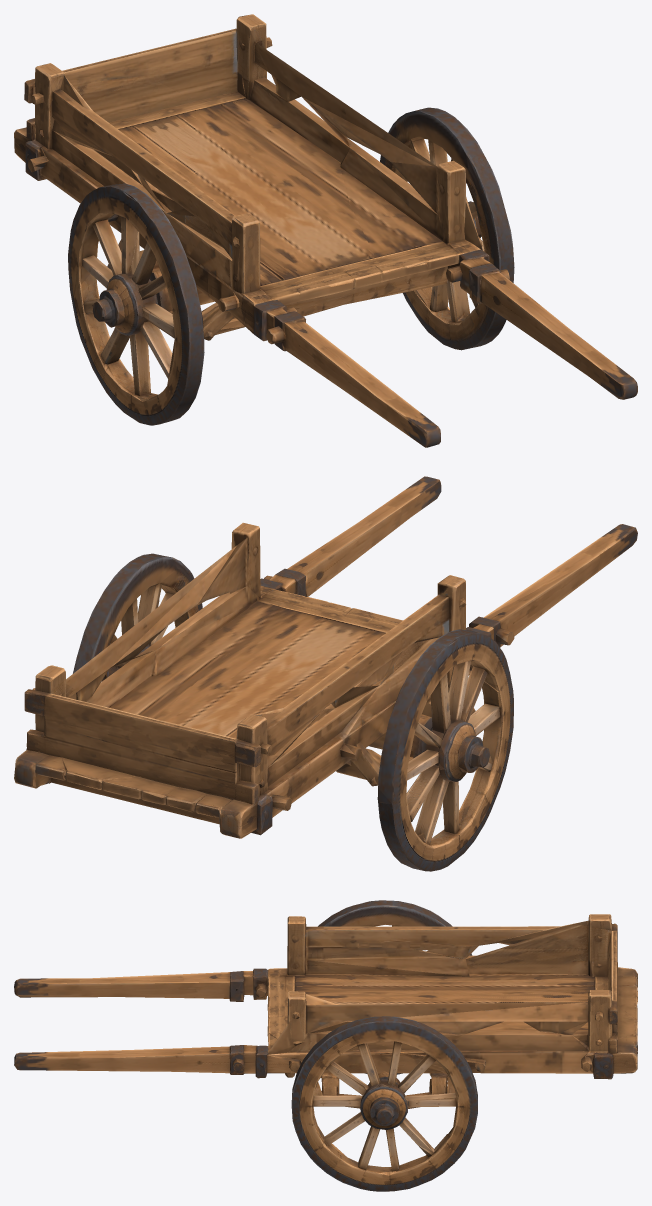
Rendered from cart.glb.
3 renders of one model, top to bottom at view 1: azimuth 30°, elevation 25°; view 2: azimuth 150°, elevation 25°; view 3: azimuth 270°, elevation 25°, orthographic. The views are drawn at different scales.
Parts seen in each view (by area): view 1: Mesh_0; view 2: Mesh_0; view 3: Mesh_0.
Boxes of the visible parts, x1,y1,x2,y2 form: Mesh_0: (14, 14, 637, 447); Mesh_0: (14, 476, 637, 871); Mesh_0: (14, 900, 637, 1191).
Bounding box in the file's own units: 1.32 × 0.7512 × 2.4.
1 material, 1 textured.
